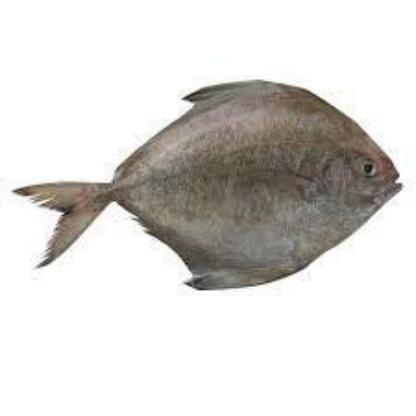ikan-pacu: (26, 78, 398, 286)
